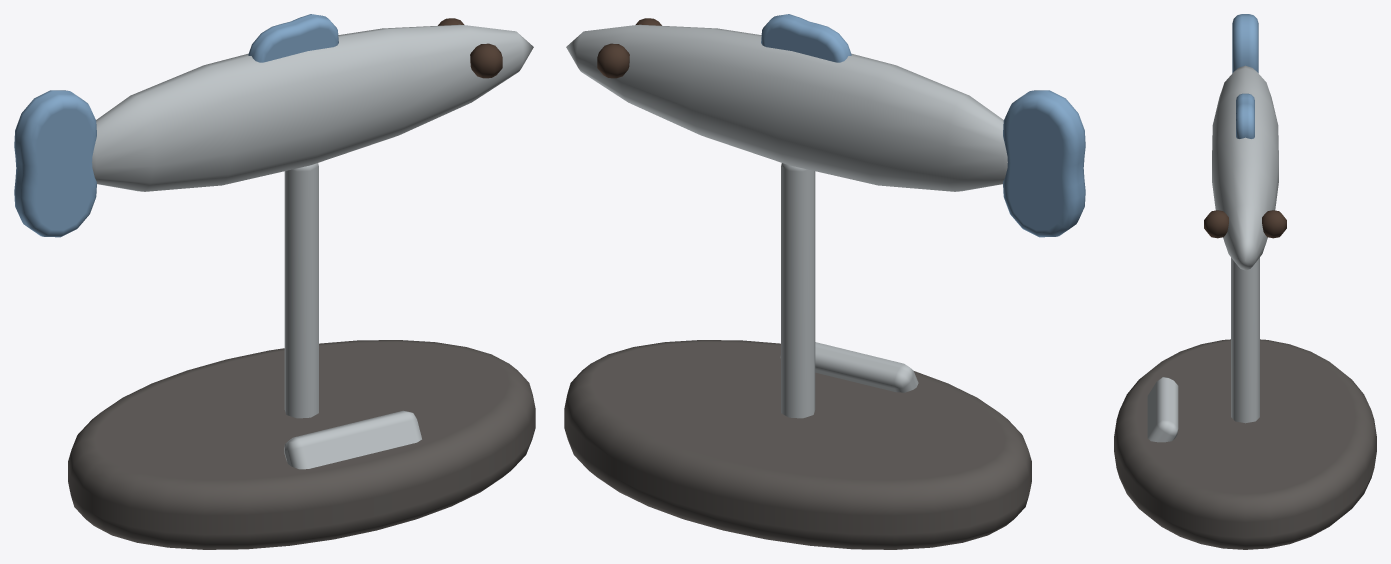
File: anchovy_model.glb
3 renders of one model, left to right at view 1: azimuth 30°, elevation 25°; view 2: azimuth 150°, elevation 25°; view 3: azimuth 270°, elevation 25°, orthographic. The views are drawn at different scales.
Visible parts, largest first — view 1: anchovy_model_mesh; view 2: anchovy_model_mesh; view 3: anchovy_model_mesh.
Part boxes in pixels (left/top/right/bottom): anchovy_model_mesh: left=14, top=14, right=535, bottom=549; anchovy_model_mesh: left=564, top=14, right=1085, bottom=549; anchovy_model_mesh: left=1114, top=14, right=1376, bottom=549.
Size of the model in its own units: 0.4 by 0.3407 by 0.22.
